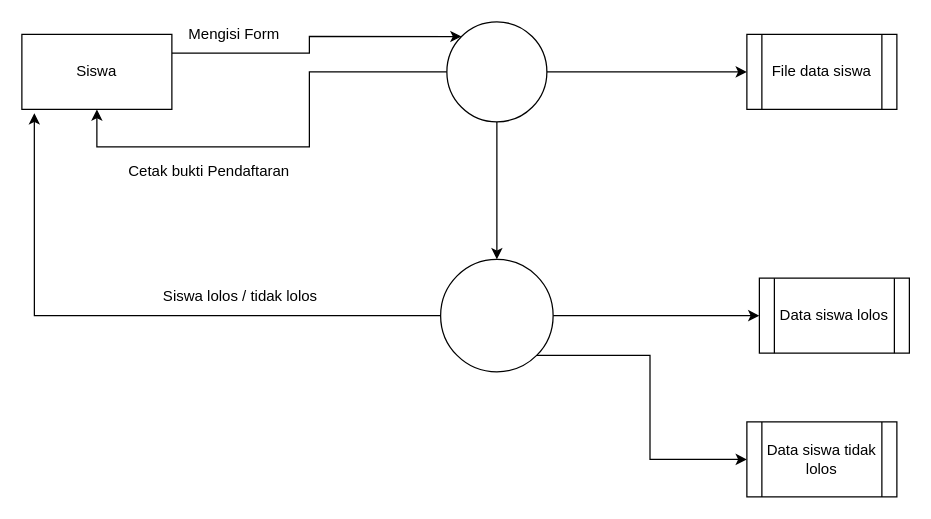
This 931x519 diagram has some shape labels left out. The shapes that lost their labels are listed below. From the top down, each one's centre as x and y in pixels, then its label:
(x=496, y=71): Pendaftaran
(x=496, y=315): Proses Seleksi
